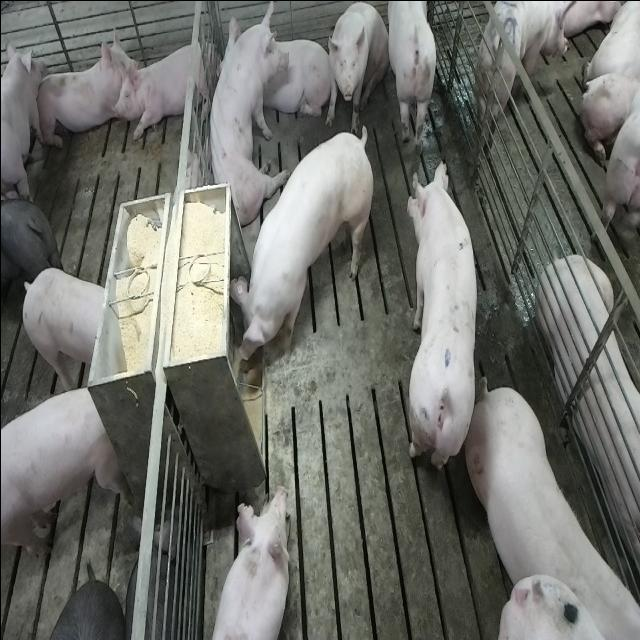Feeding: (224, 130, 368, 378)
Sitting: (201, 4, 283, 230), (324, 1, 388, 128)
Standing: (404, 156, 480, 478), (1, 383, 123, 571), (469, 0, 571, 142), (19, 265, 106, 393), (384, 2, 438, 151), (0, 36, 42, 204), (0, 191, 57, 305)
Sternal_lying: (537, 251, 640, 578), (208, 484, 291, 640), (34, 24, 138, 147), (216, 23, 330, 127), (116, 31, 215, 140)
